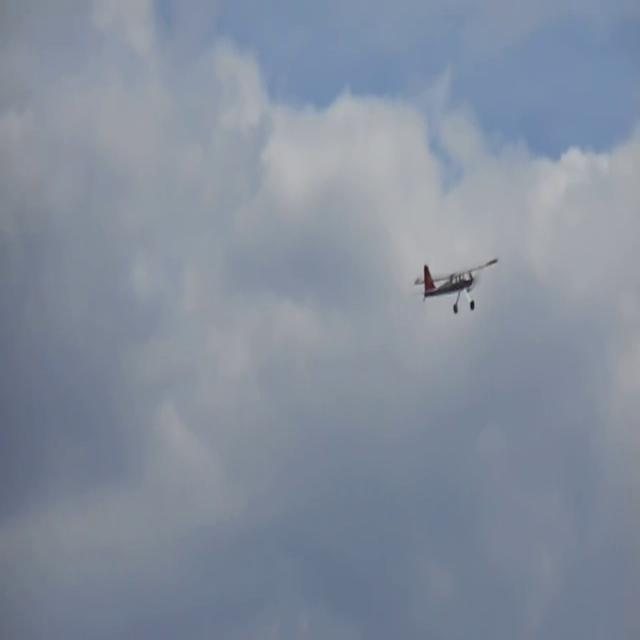iha: (440, 259, 463, 310)
